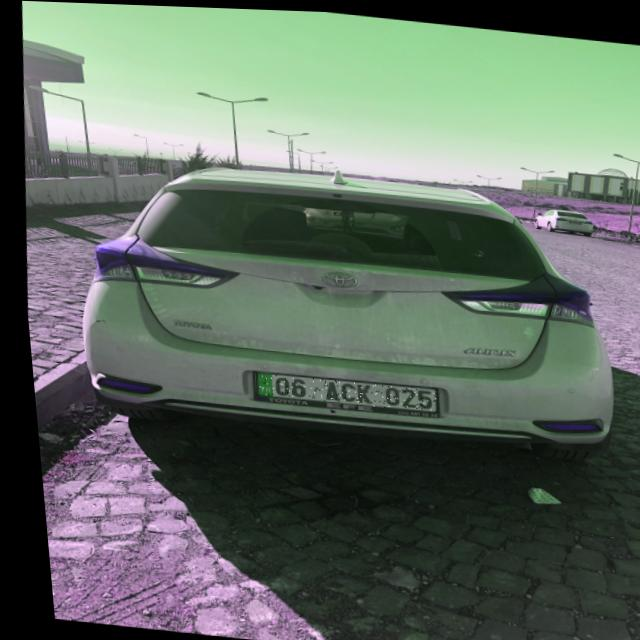license_plate: (249, 370, 430, 409)
